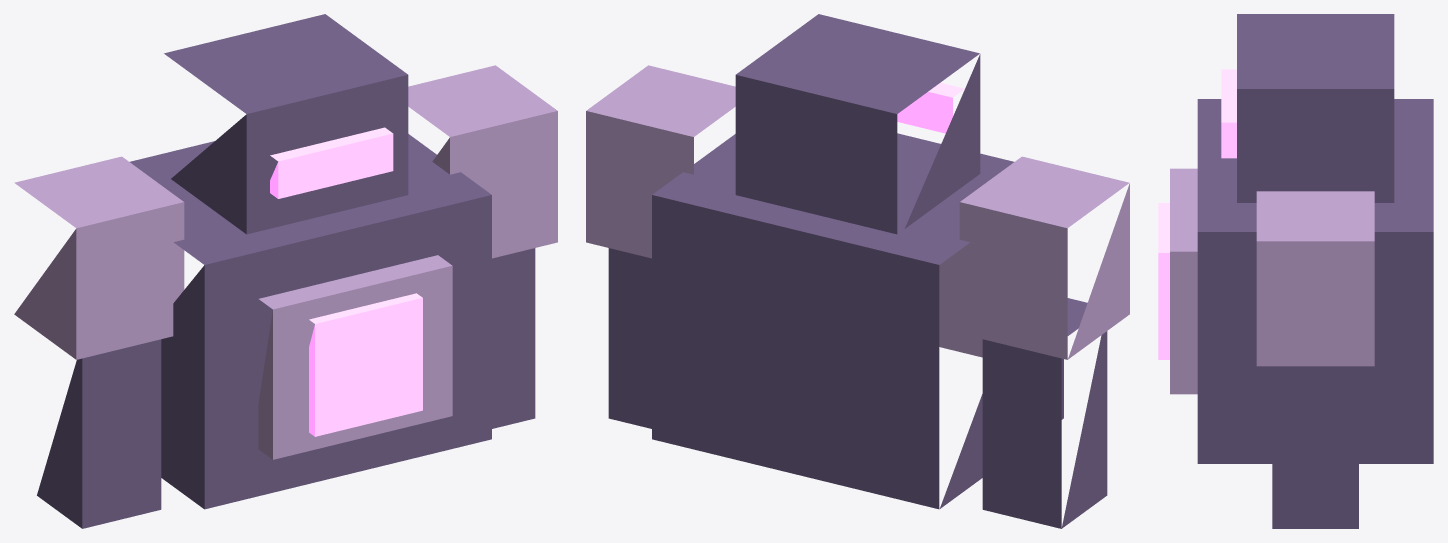
Rendered from golem_aether_02.glb.
3 views of the same model, side by side, from view 1: azimuth 30°, elevation 25°; view 2: azimuth 150°, elevation 25°; view 3: azimuth 270°, elevation 25° (orthographic). The views are drawn at different scales.
Visible parts, largest first — view 1: AetherObsidian, AetherRunic, AetherGlow; view 2: AetherObsidian, AetherRunic, AetherGlow; view 3: AetherObsidian, AetherRunic, AetherGlow.
Boxes of the visible parts, x1,y1,x2,y2 form: AetherObsidian: [37, 14, 535, 528]; AetherRunic: [14, 65, 557, 459]; AetherGlow: [270, 127, 422, 436]; AetherObsidian: [608, 14, 1107, 528]; AetherRunic: [586, 65, 1129, 359]; AetherGlow: [897, 82, 964, 133]; AetherObsidian: [1197, 14, 1433, 528]; AetherRunic: [1170, 168, 1374, 394]; AetherGlow: [1158, 69, 1236, 359].
Bounding box in the file's own units: 1.34 × 1.04 × 0.7.
